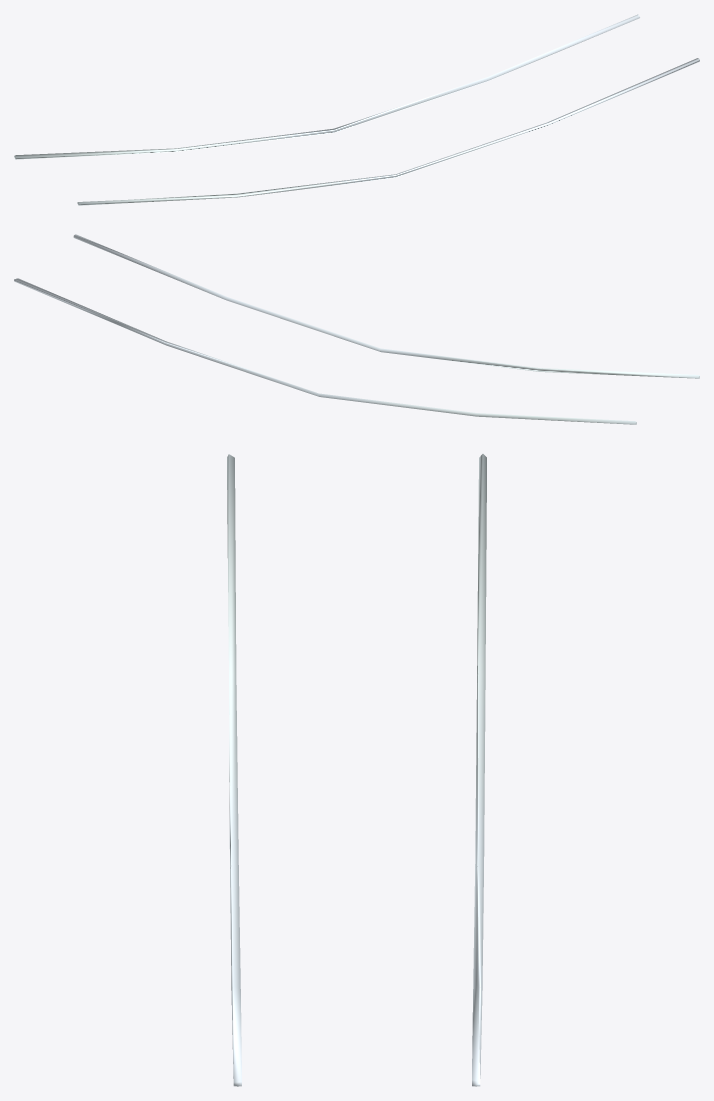
File: WoodBridgeRope.glb
3 views of the same model, one above another, from view 1: azimuth 30°, elevation 25°; view 2: azimuth 150°, elevation 25°; view 3: azimuth 270°, elevation 25° (orthographic). The views are drawn at different scales.
Parts seen in each view (by area): view 1: WoodBridgeRope; view 2: WoodBridgeRope; view 3: WoodBridgeRope.
Boxes of the visible parts, left/top/right/bottom form: WoodBridgeRope: left=14, top=14, right=699, bottom=205; WoodBridgeRope: left=14, top=234, right=699, bottom=424; WoodBridgeRope: left=227, top=454, right=486, bottom=1086.
Size of the model in its own units: 8.8 by 0.7342 by 1.59.
1 material, 1 textured.
